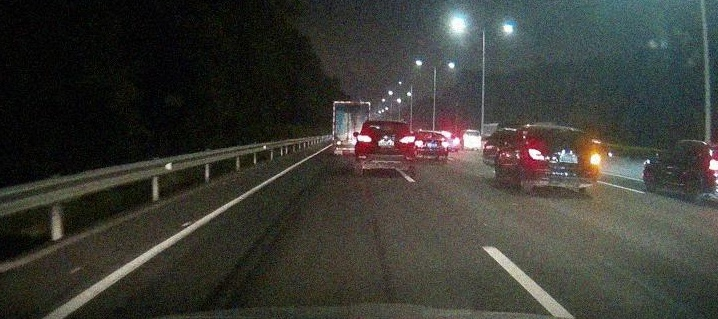L_light: (528, 148, 545, 160), (357, 134, 372, 142)
R_light: (587, 152, 600, 164), (399, 136, 414, 143)
T_light: (553, 128, 565, 134), (381, 122, 392, 126)
night-no: (355, 120, 415, 175)
night-right: (526, 125, 600, 196)
